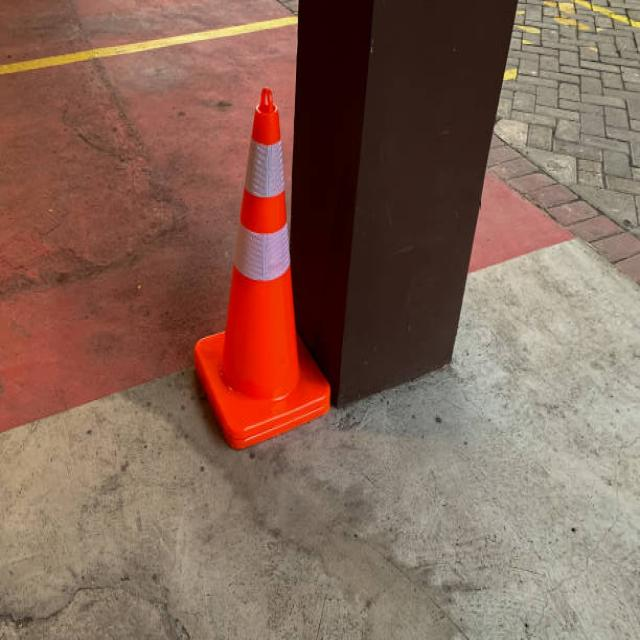Traffic Cone: (173, 66, 349, 467)
